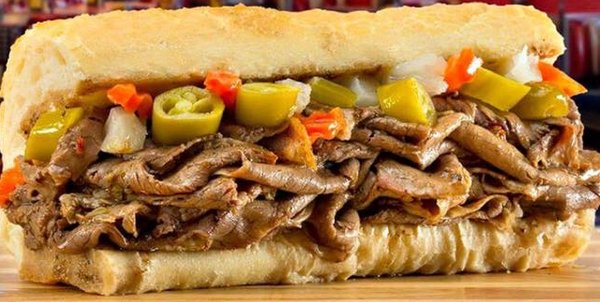soup: (3, 2, 598, 289)
